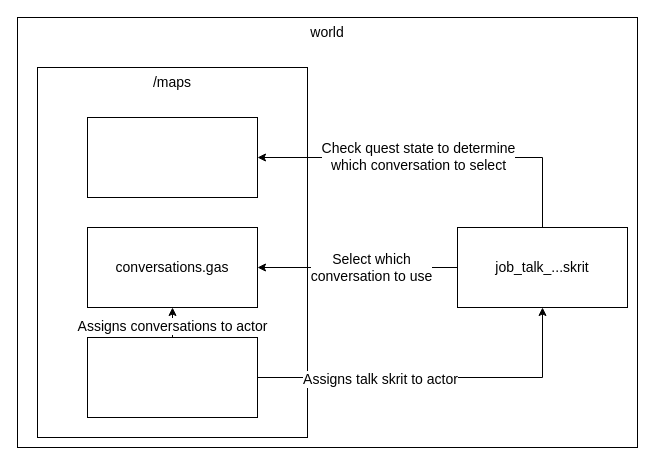
The diagram is 655 pixels wide and 465 high, and some of its shapes have lost their labels. The shapes that lost their labels are listed below. From the top down, each one's centre as x and y in pixels, then its label:
pixel 172 157: quests.gas
pixel 172 377: actors.gas
